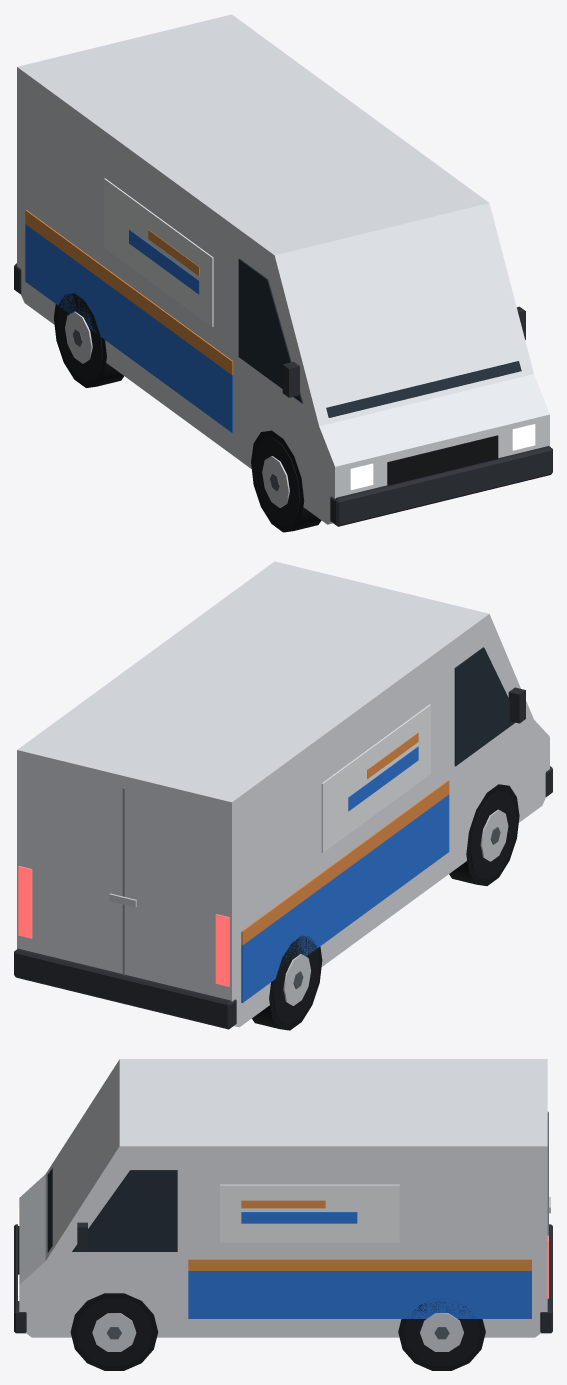
Rendered from van.glb.
3 renders of one model, top to bottom at view 1: azimuth 30°, elevation 25°; view 2: azimuth 150°, elevation 25°; view 3: azimuth 270°, elevation 25°, orthographic. The views are drawn at different scales.
Parts seen in each view (by area): view 1: van; view 2: van; view 3: van.
Boxes of the visible parts, x1,y1,x2,y2 form: van: [14, 14, 552, 532]; van: [14, 561, 552, 1030]; van: [14, 1059, 552, 1370].
Size of the model in its own units: 2.15 by 2.34 by 5.1.
